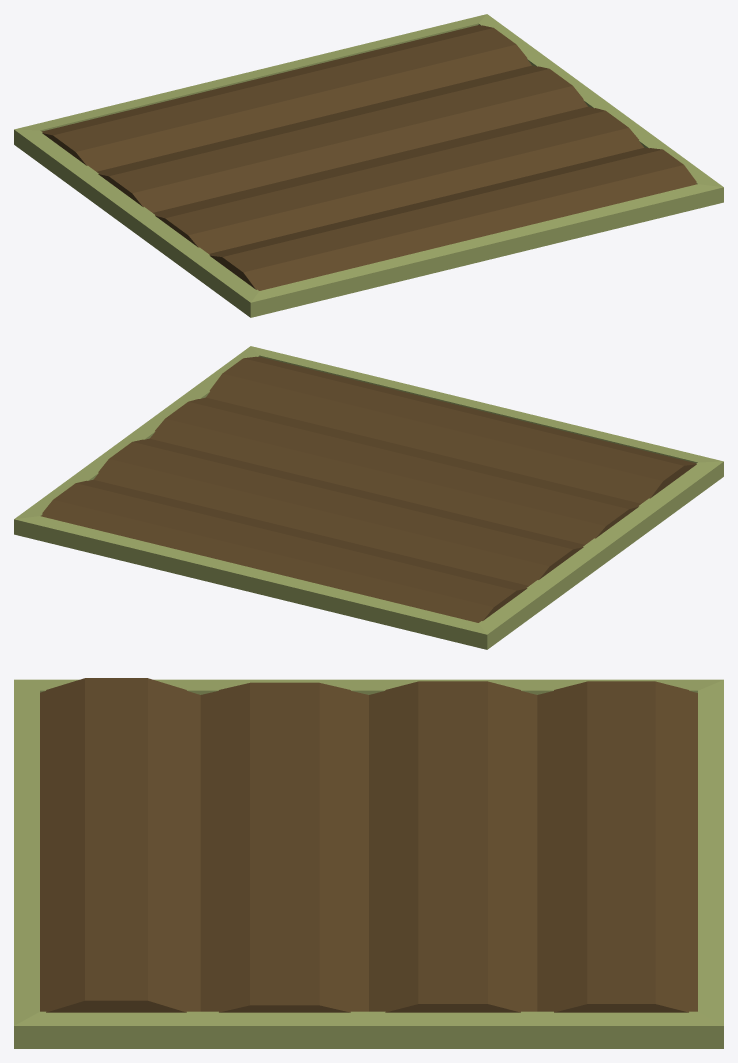
The model's file is грядки после.fbx.
3 views of the same model, one above another, from view 1: azimuth 30°, elevation 25°; view 2: azimuth 150°, elevation 25°; view 3: azimuth 270°, elevation 25° (orthographic). The views are drawn at different scales.
Parts seen in each view (by area): view 1: Cube, Cube.001; view 2: Cube, Cube.001; view 3: Cube, Cube.001.
Part boxes in pixels (x1,y1,x2,y2): Cube: [42, 25, 696, 290]; Cube.001: [14, 14, 723, 317]; Cube: [41, 356, 696, 622]; Cube.001: [14, 346, 723, 649]; Cube: [40, 678, 697, 1012]; Cube.001: [14, 679, 723, 1048].
Bounding box in the file's own units: 650 × 31.79 × 563.
